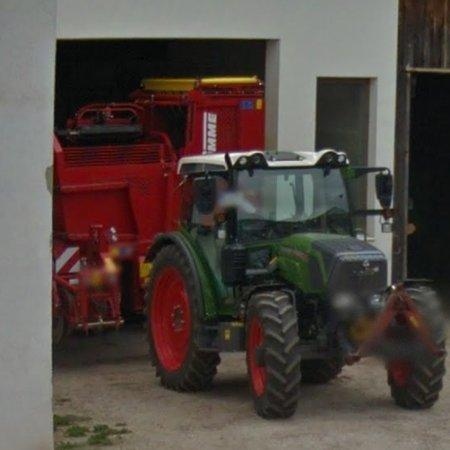tractors: (146, 149, 447, 419)
